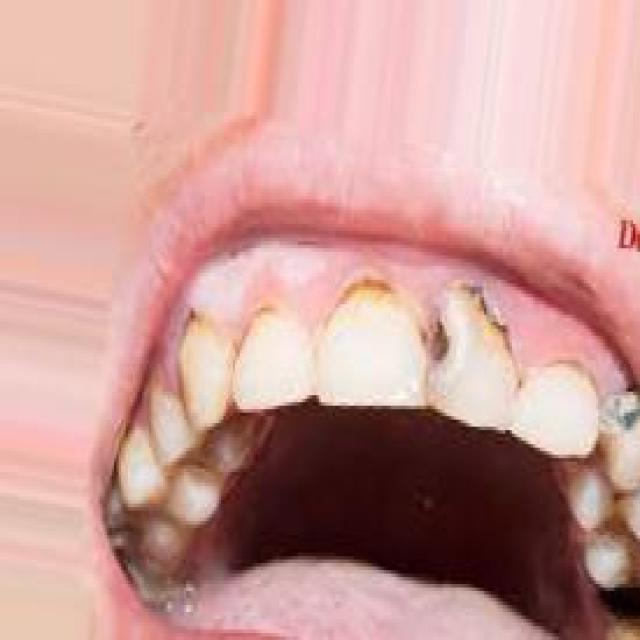caries: (462, 274, 531, 371), (586, 373, 640, 461), (586, 557, 640, 640), (414, 294, 457, 381)
